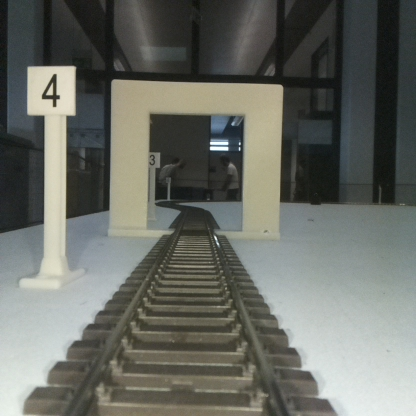white-info-4: (27, 65, 75, 290)
